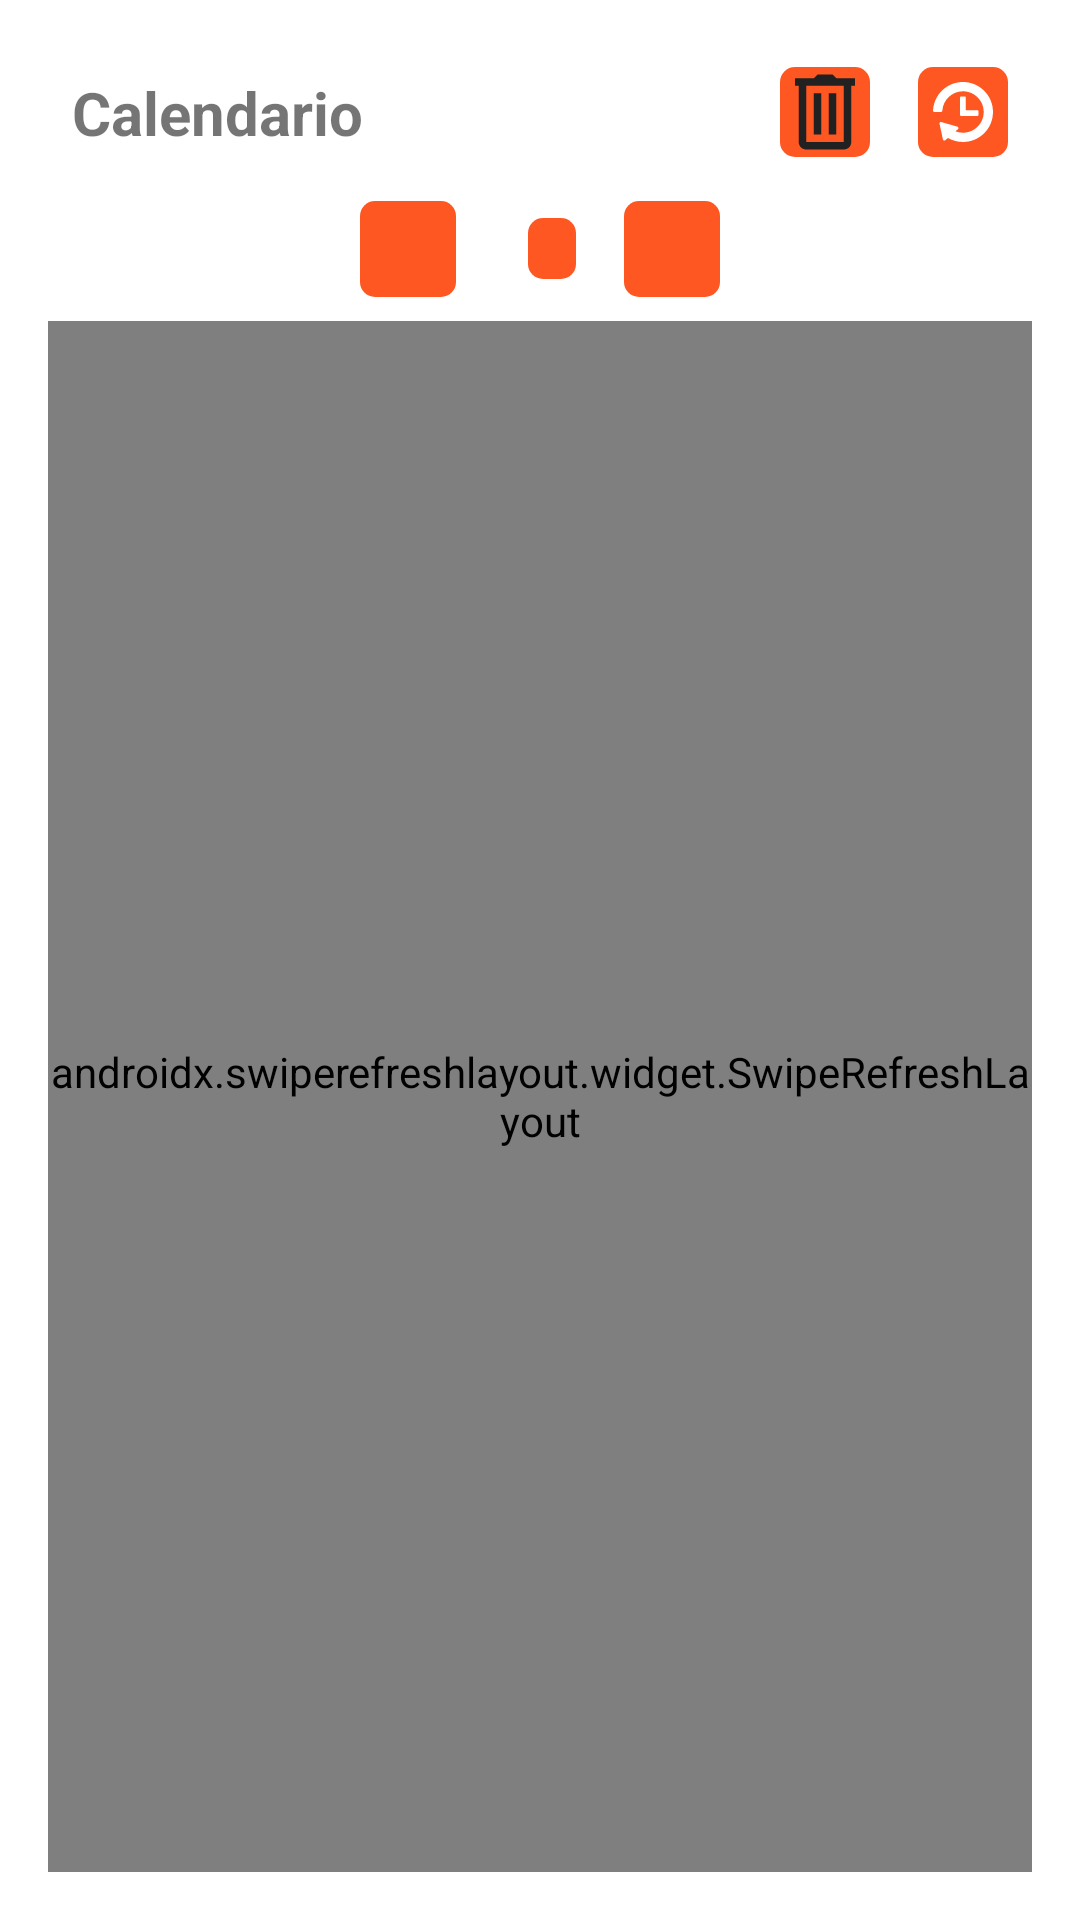

Screen size 1080 × 1920. Icon name, then its center in pixels as point (x, y):
Borrar calendario: point (825, 112)
